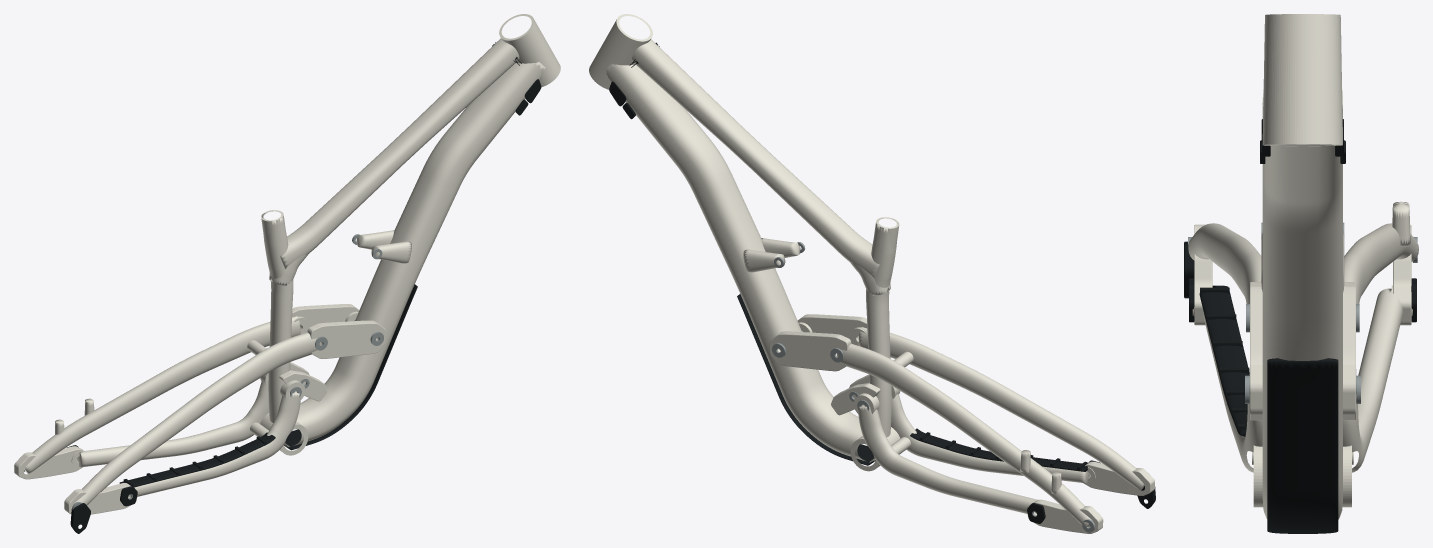
Rendered from yt-tues-mk4-carbon--m.glb.
The picture shows the model from 3 angles, left to right: view 1: azimuth 30°, elevation 25°; view 2: azimuth 150°, elevation 25°; view 3: azimuth 270°, elevation 25°; orthographic projection. The views are drawn at different scales.
Parts seen in each view (by area): view 1: yt-tues-mk4-carbon__paint_0, yt-tues-mk4-carbon__chain_guard, yt-tues-mk4-carbon__bolt_899_675_-1; view 2: yt-tues-mk4-carbon__paint_0, yt-tues-mk4-carbon__chain_guard, yt-tues-mk4-carbon__bolt_899_675_-1; view 3: yt-tues-mk4-carbon__paint_0, yt-tues-mk4-carbon__chain_guard, yt-tues-mk4-carbon__bolt_899_675_-1.
Boxes of the visible parts, left/top/right/bottom form: yt-tues-mk4-carbon__paint_0: left=14, top=14, right=560, bottom=514; yt-tues-mk4-carbon__chain_guard: left=66, top=79, right=541, bottom=533; yt-tues-mk4-carbon__bolt_899_675_-1: left=24, top=234, right=383, bottom=509; yt-tues-mk4-carbon__paint_0: left=589, top=14, right=1154, bottom=533; yt-tues-mk4-carbon__chain_guard: left=609, top=81, right=1155, bottom=523; yt-tues-mk4-carbon__bolt_899_675_-1: left=772, top=242, right=1095, bottom=532; yt-tues-mk4-carbon__paint_0: left=1188, top=14, right=1418, bottom=519; yt-tues-mk4-carbon__chain_guard: left=1184, top=119, right=1416, bottom=533; yt-tues-mk4-carbon__bolt_899_675_-1: left=1188, top=222, right=1417, bottom=403.
Size of the model in its own units: 0.9991 by 0.6997 by 0.1982.
Materials: 5 (2 with a texture image).
